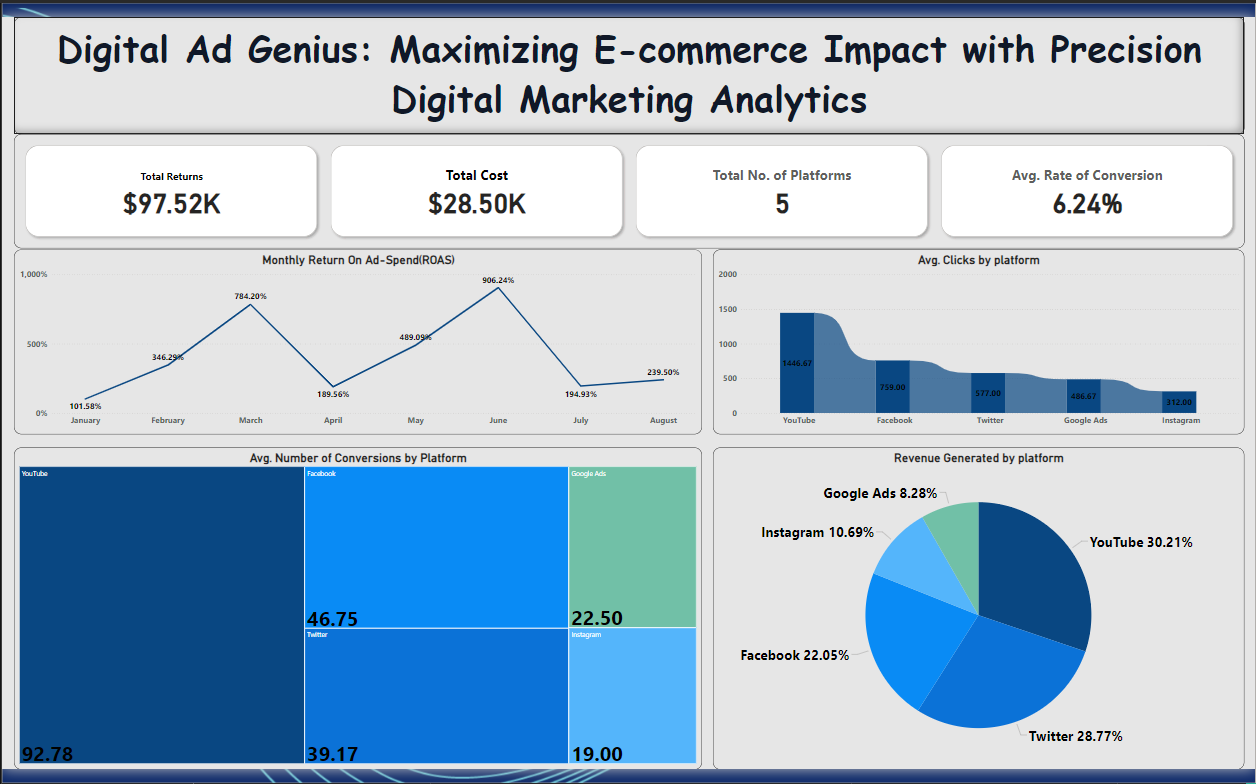

The page's visual inventory and layout, read from the dashboard file:
{"tool":"powerbi","page":{"name":"Analysis Dashboard","canvas":[2500,1500],"ordinal":2},"visuals":[{"type":"pieChart","title":"Revenue Generated by platform","fields":{"Category":["ad_campaign_data.Platform"],"Y":["Sum(ad_campaign_data.ConversionValue)"]},"box":[1418.5,857.6,1059.8,642.4],"z":0},{"type":"treemap","title":"Avg. Number of Conversions by Platform","fields":{"Group":["ad_campaign_data.Platform"],"Values":["Avg(ad_campaign_data.Conversions)"]},"box":[22.8,857.6,1372.8,642.4],"z":1000},{"type":"textbox","box":[22.8,0,2455.4,234.8],"z":2000},{"type":"areaChart","title":"Monthly Return On Ad-Spend(ROAS) ","fields":{"Category":["DateTable.MonthName"],"Y":["DAX Measures.Ret On AdSpend(ROAS)"]},"box":[22.8,463,1372.8,368.5],"z":3000},{"type":"cardVisual","fields":{"Data":["Sum(ad_campaign_data.ConversionValue)","Sum(ad_campaign_data.Cost)","Count(ad_campaign_data.Platform)","DAX Measures.ConversionRate"]},"box":[22.8,234.8,2455.4,228.3],"z":4000},{"type":"ribbonChart","title":"Avg. Clicks by platform","fields":{"Category":["ad_campaign_data.Platform"],"Y":["Avg(ad_campaign_data.Clicks)"]},"box":[1418.5,463,1059.8,368.5],"z":5000}]}

Visuals, with their boxes on the page's 2500x1500 design canvas (x1, y1, x2, y2). These are canvas units, not pixel positions in the 1256x784 screenshot, which may show the page scaled, cropped or inside an application window:
"Revenue Generated by platform" pieChart: (x1=1418, y1=858, x2=2478, y2=1500)
"Avg. Number of Conversions by Platform" treemap: (x1=23, y1=858, x2=1396, y2=1500)
textbox: (x1=23, y1=0, x2=2478, y2=235)
"Monthly Return On Ad-Spend(ROAS) " areaChart: (x1=23, y1=463, x2=1396, y2=832)
cardVisual - Sum(ad_campaign_data.ConversionValue) x Sum(ad_campaign_data.Cost): (x1=23, y1=235, x2=2478, y2=463)
"Avg. Clicks by platform" ribbonChart: (x1=1418, y1=463, x2=2478, y2=832)
